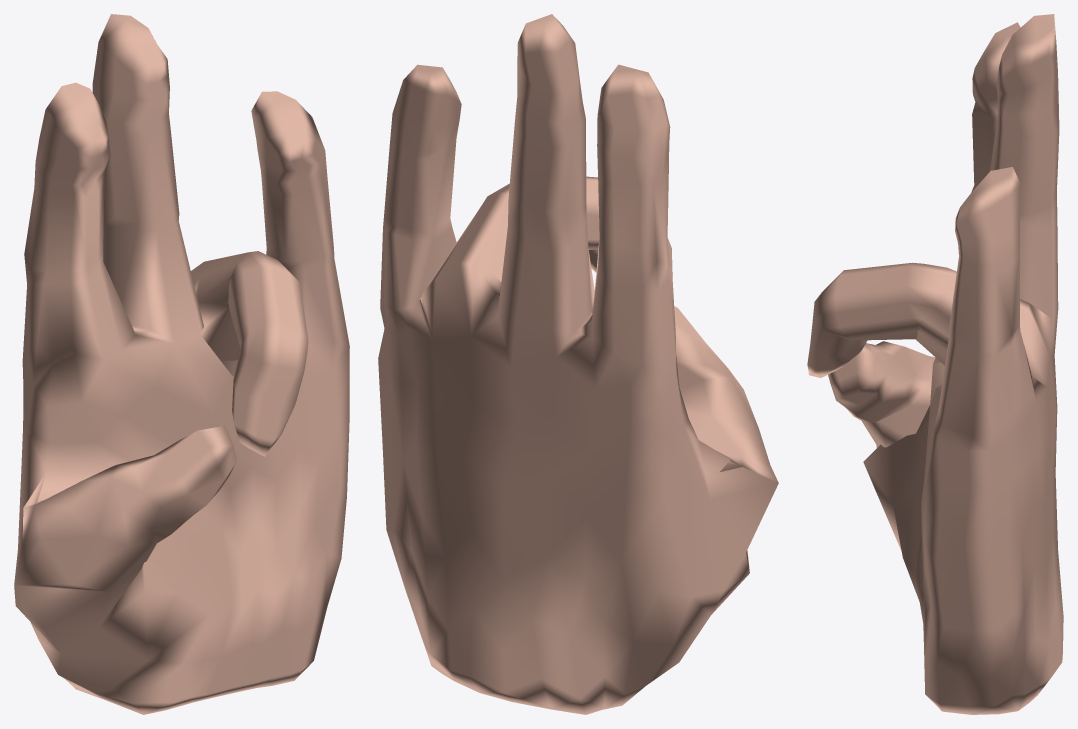
Rendered from MAO_DROGA.obj.
3 views of the same model, side by side, from view 1: azimuth 30°, elevation 25°; view 2: azimuth 150°, elevation 25°; view 3: azimuth 270°, elevation 25° (orthographic). The views are drawn at different scales.
Visible parts, largest first — view 1: mao_dir polySurface1; view 2: mao_dir polySurface1; view 3: mao_dir polySurface1.
Boxes of the visible parts, bbox=[...] form: mao_dir polySurface1: bbox=[14, 14, 349, 714]; mao_dir polySurface1: bbox=[378, 14, 778, 714]; mao_dir polySurface1: bbox=[807, 14, 1063, 714].
Size of the model in its own units: 134 by 243 by 88.17.
